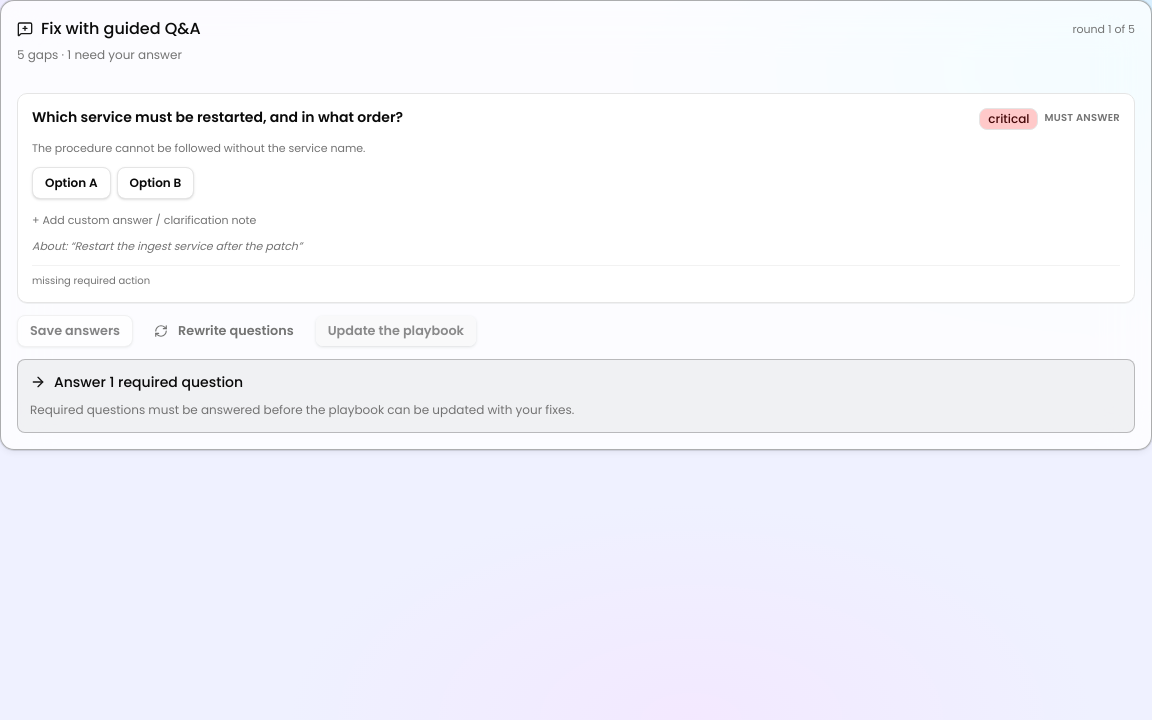
it: ClarificationPanel › allows toggling custom answer / clarification note on choice question
Click the button "+ Add custom answer / clarification note" at (144, 221), box [32, 213, 256, 229]
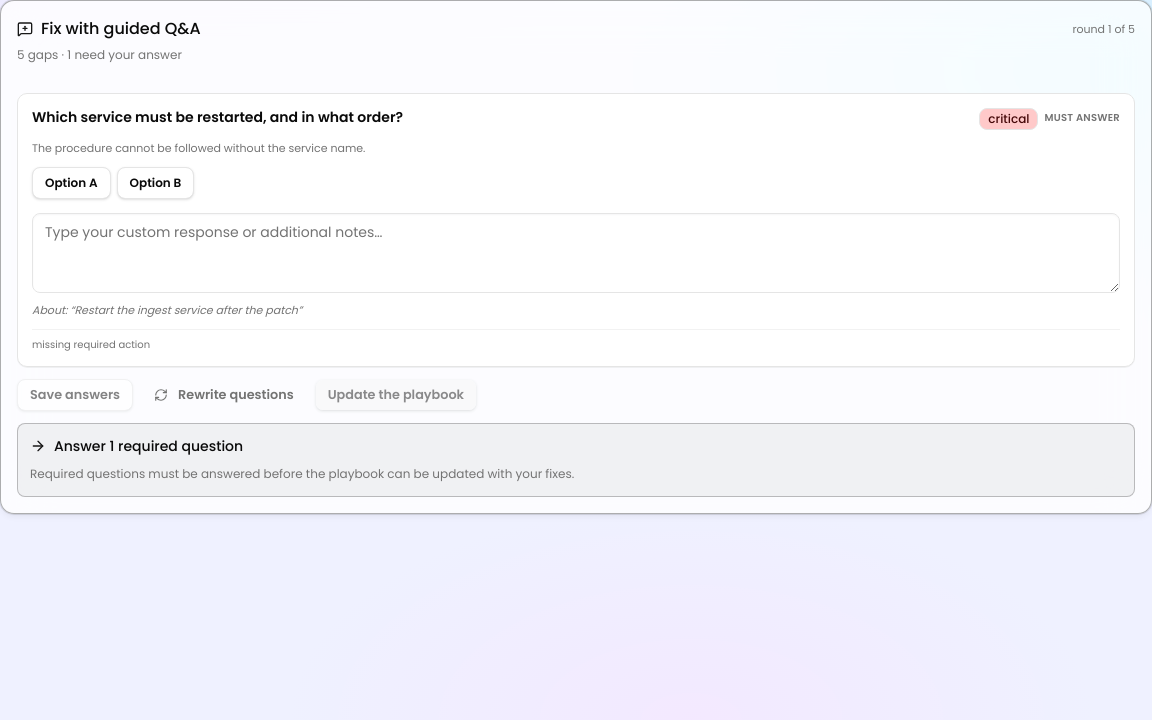
Check: the text box named "Which service must be restarted, and in what order?" is shown, box [32, 213, 1120, 293]
